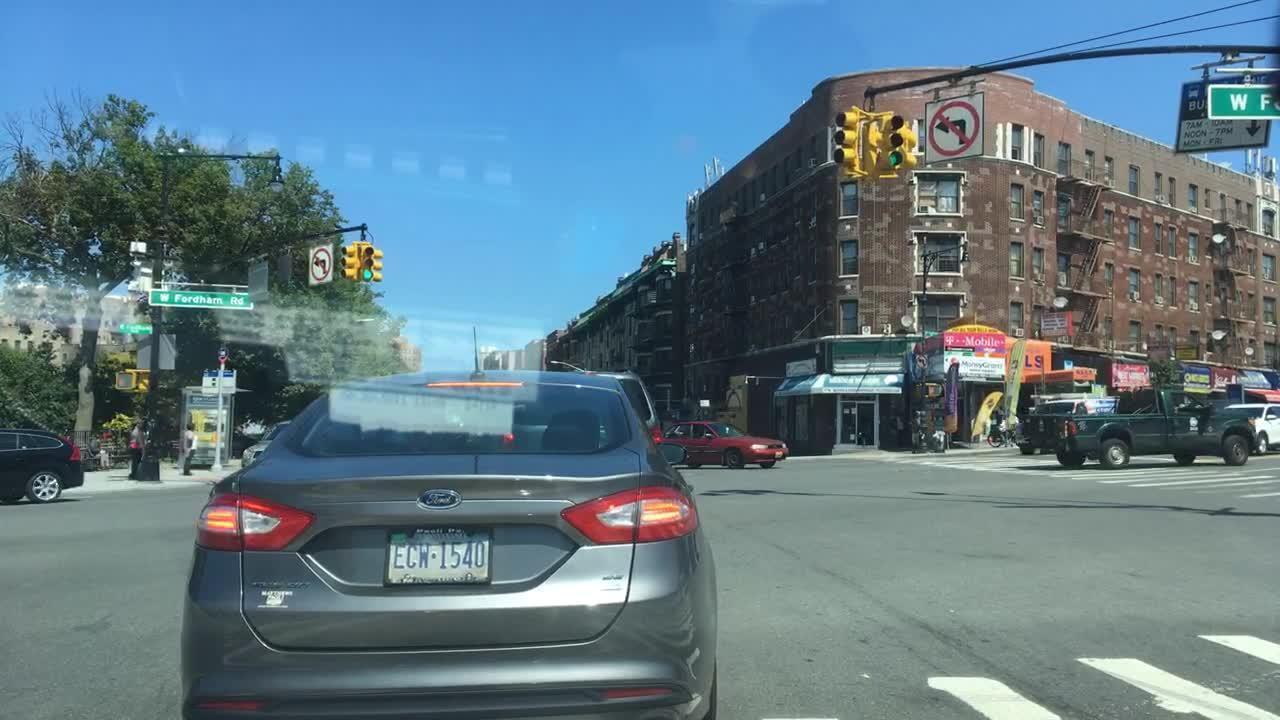ford: (416, 485, 467, 512)
